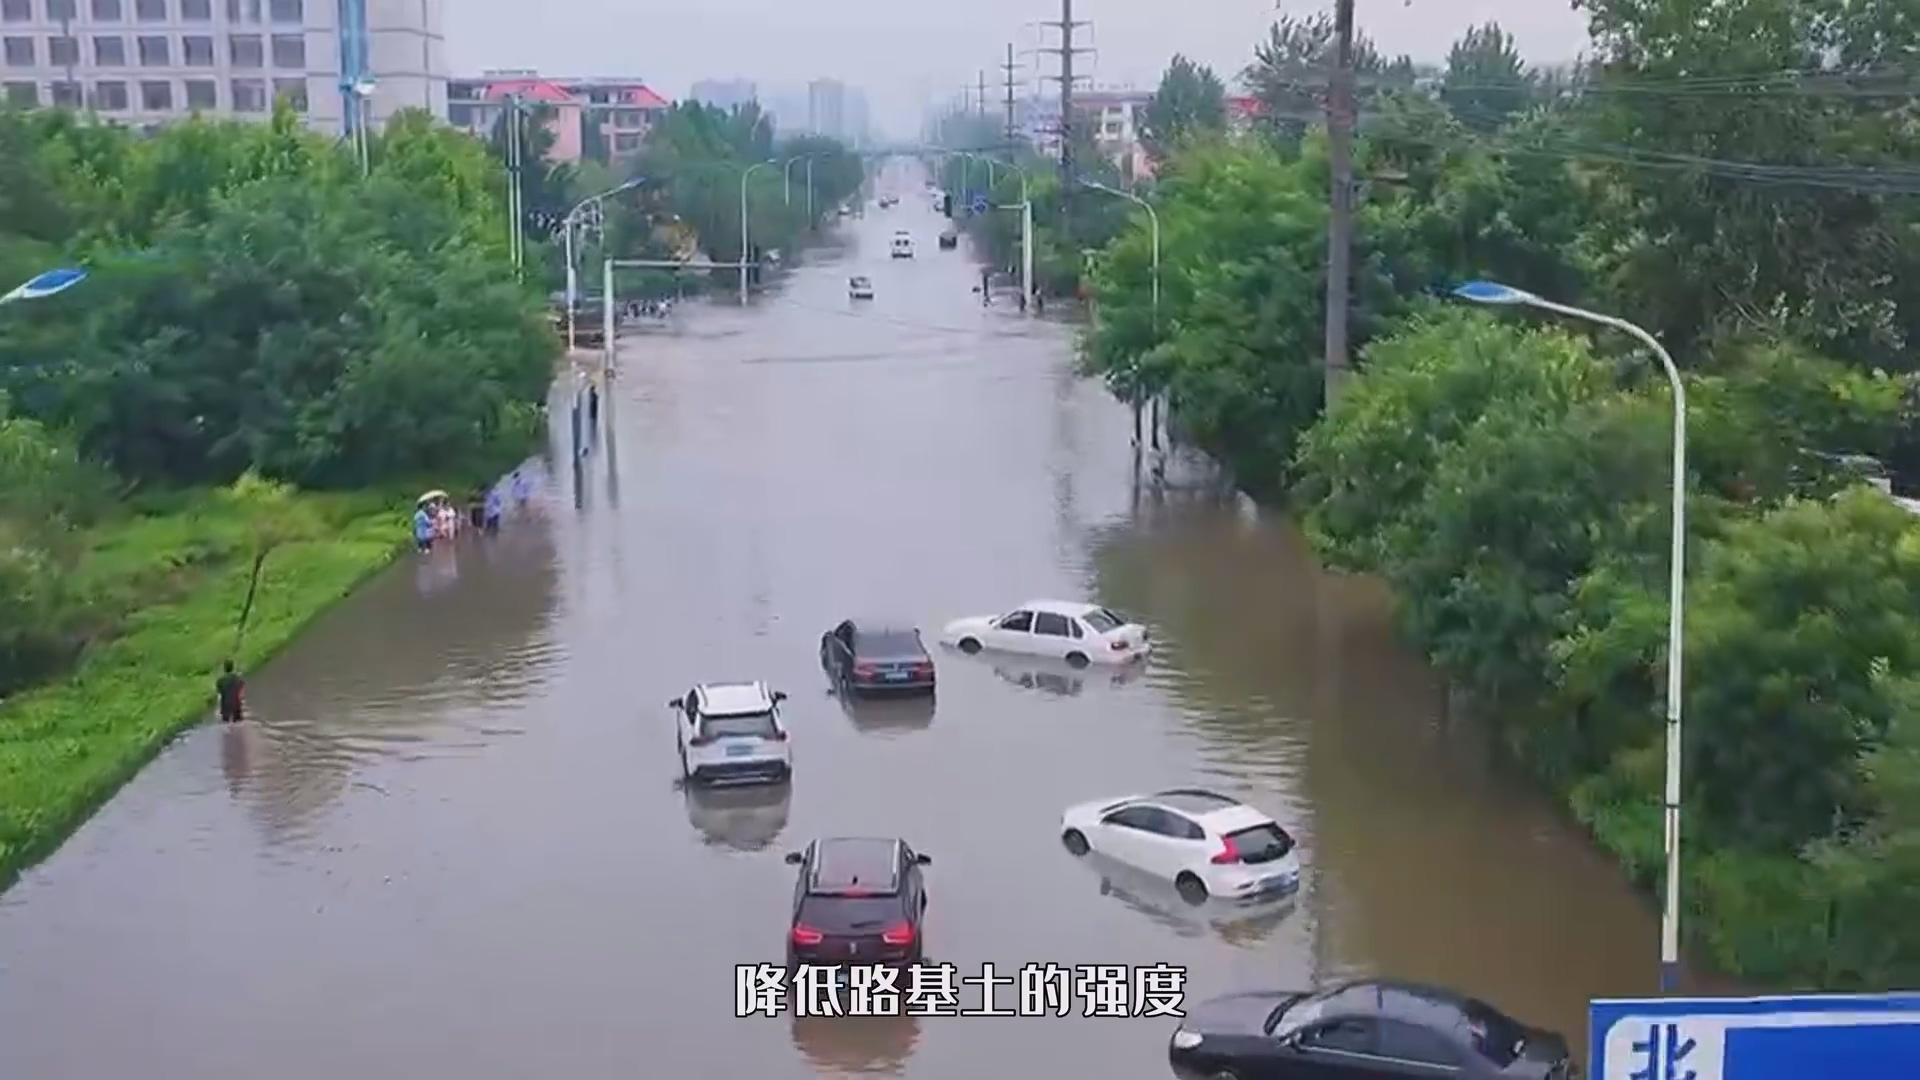puddle: (38, 421, 1561, 1075)
